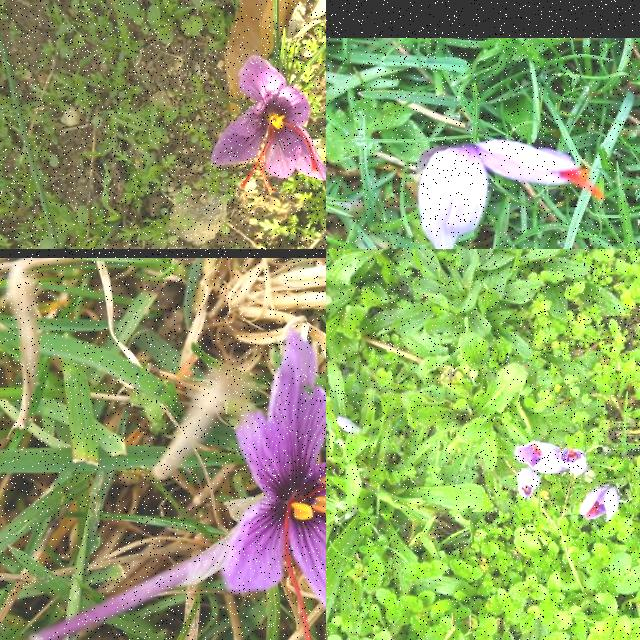flower: (221, 326, 326, 640), (417, 140, 604, 249), (209, 56, 326, 194), (516, 442, 562, 476), (580, 487, 620, 523), (559, 447, 587, 475), (518, 468, 542, 500)
